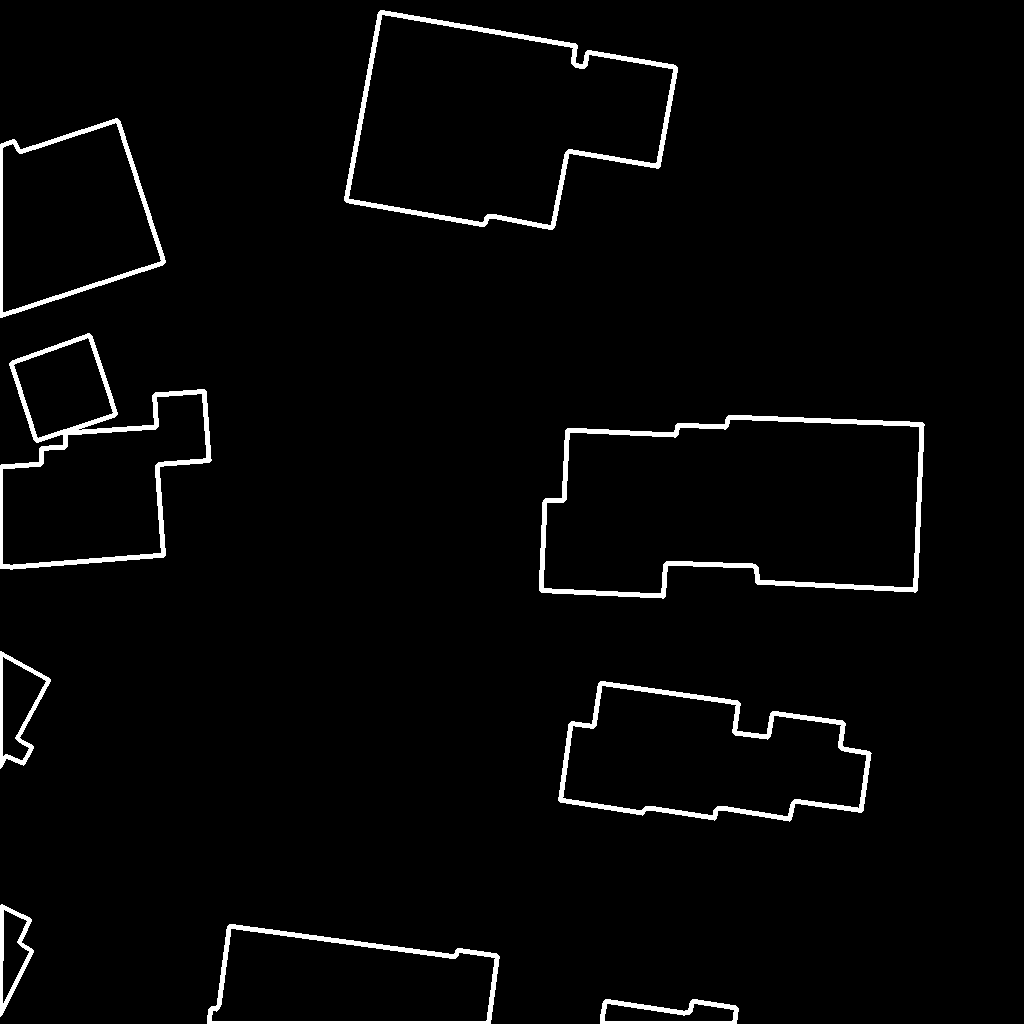building: (346, 12, 677, 229), (541, 417, 923, 597), (560, 683, 870, 820), (0, 391, 210, 568), (0, 120, 165, 317), (209, 926, 499, 1024), (11, 335, 117, 442), (0, 653, 50, 768), (0, 906, 33, 1016), (602, 1001, 738, 1024)
